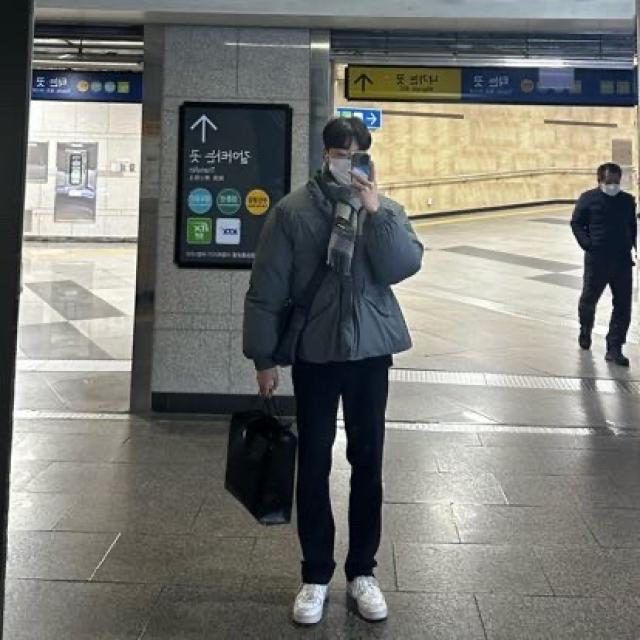padding: (243, 175, 424, 368), (288, 348, 392, 582)
